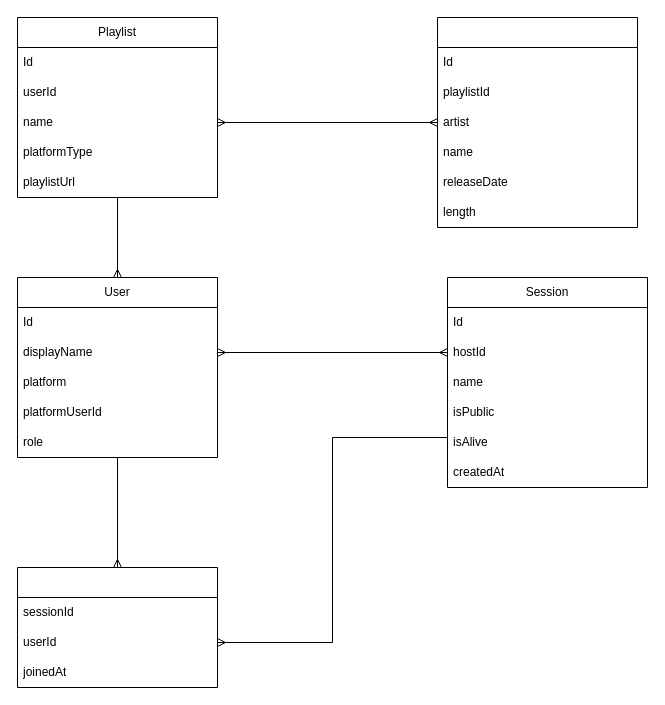
Some shapes in this 665 by 705 pixel diagram are drawn without their labels. Here are the shapes that lost their labels. From the top down, the box of each, then its label:
(436, 16, 638, 228): Playlist Track
(16, 566, 218, 688): SessionUser
